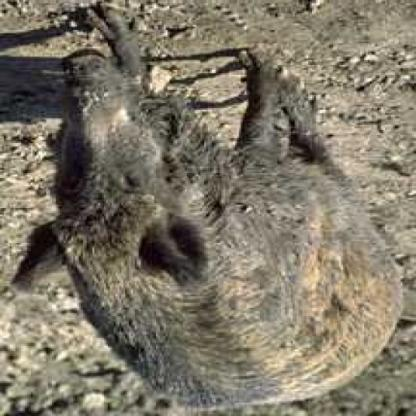boar: (23, 49, 386, 407)
